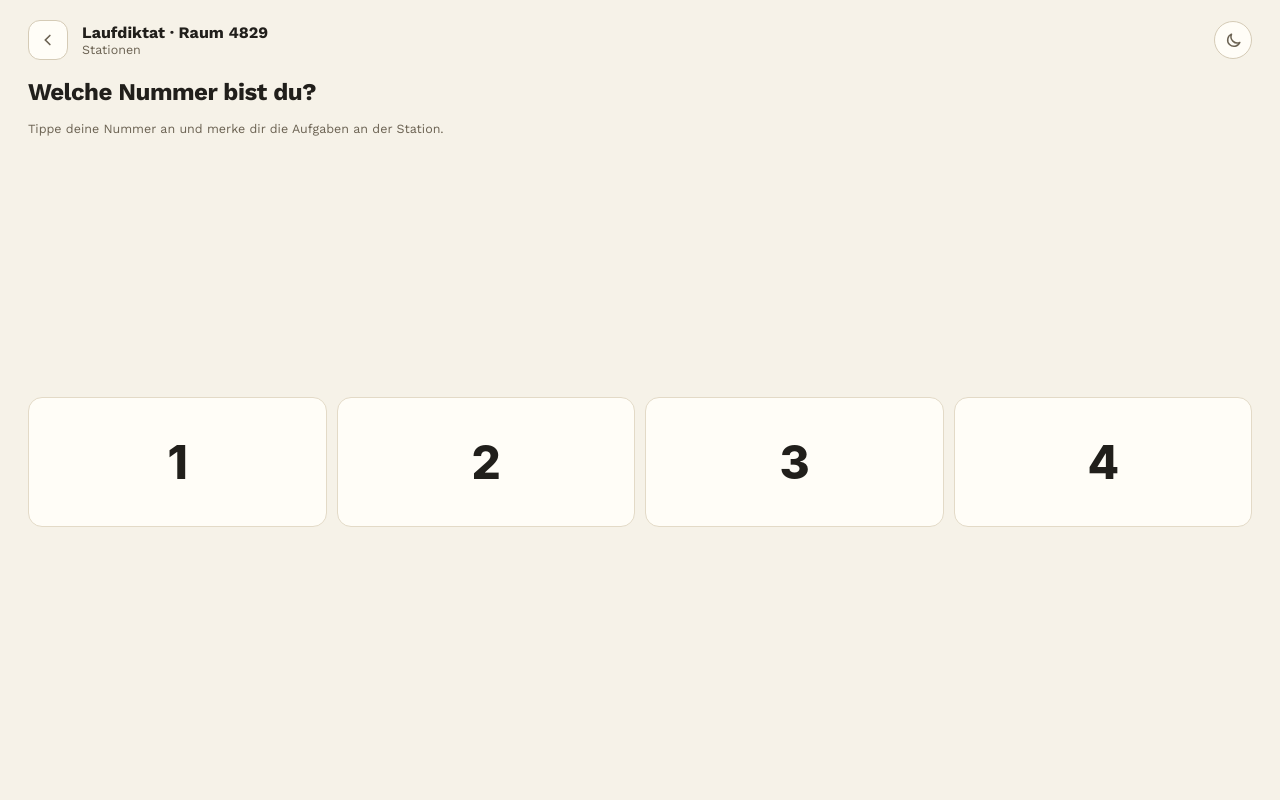
LiveStationGame › restores a station and reports its secure station identity
Later steps or results of the test are not shown.
Click the button "3".
click(794, 462)  # box x1=645 y1=397 x2=944 y2=527
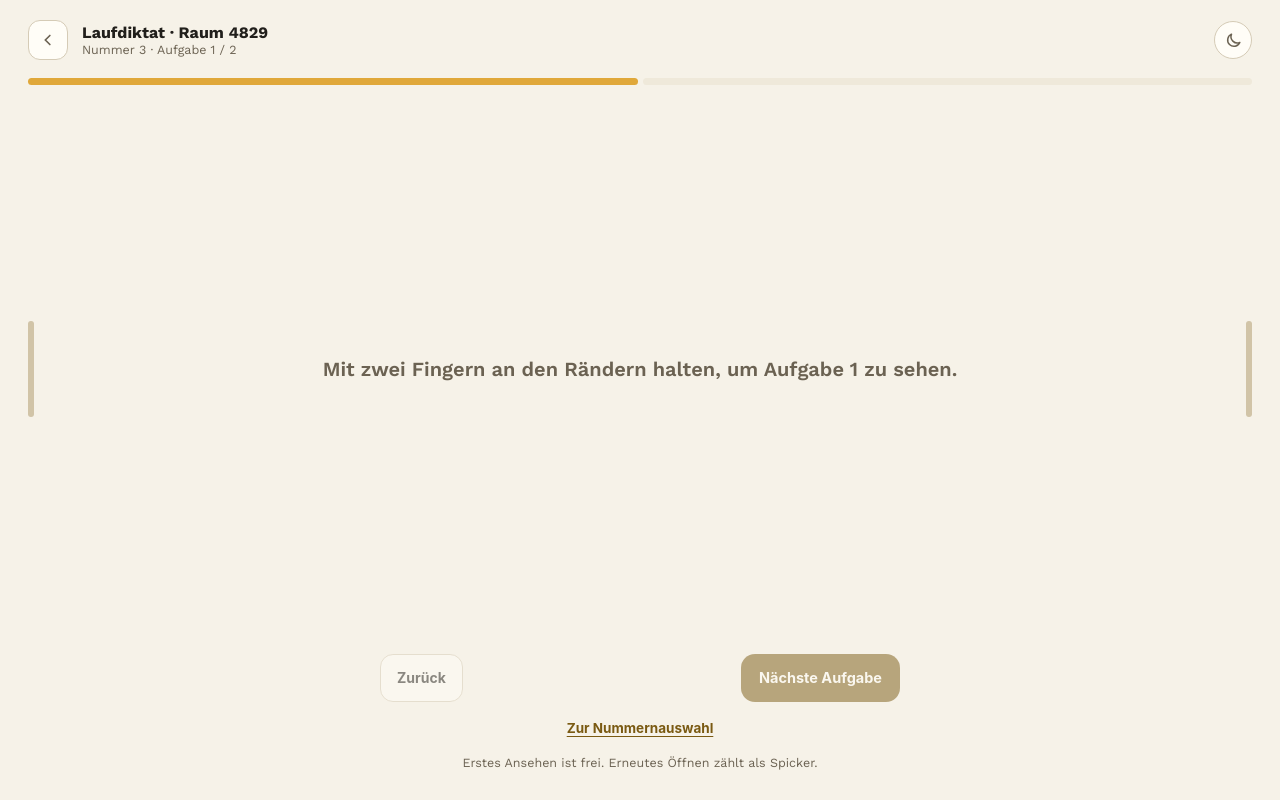
Press the mouse on the element that starts with "Laufdiktat · Raum" at coordinates (640, 400), box x1=0 y1=0 x2=1279 y2=799
Press the mouse on the element that starts with "Laufdiktat · Raum" at coordinates (640, 400), box x1=0 y1=0 x2=1279 y2=799
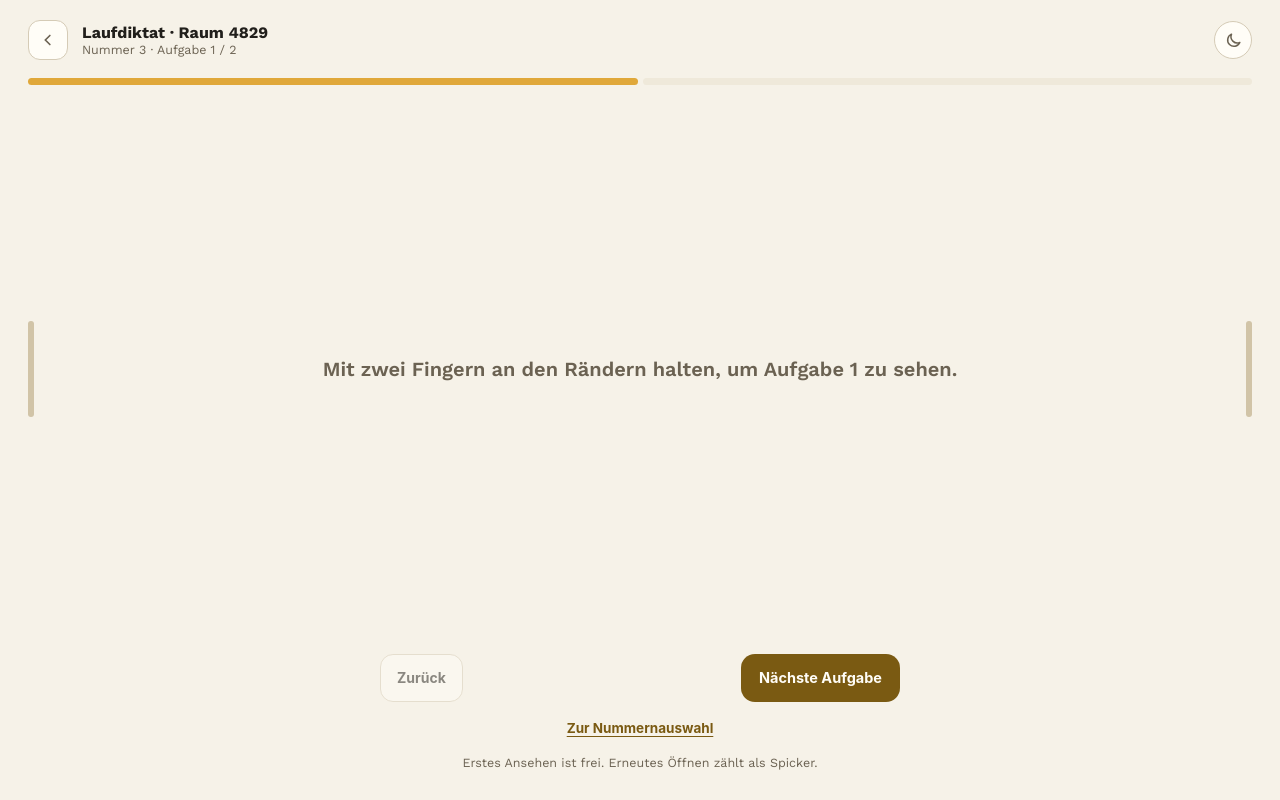
Click the button "Nächste Aufgabe".
click(820, 678)  # box x1=741 y1=654 x2=900 y2=702
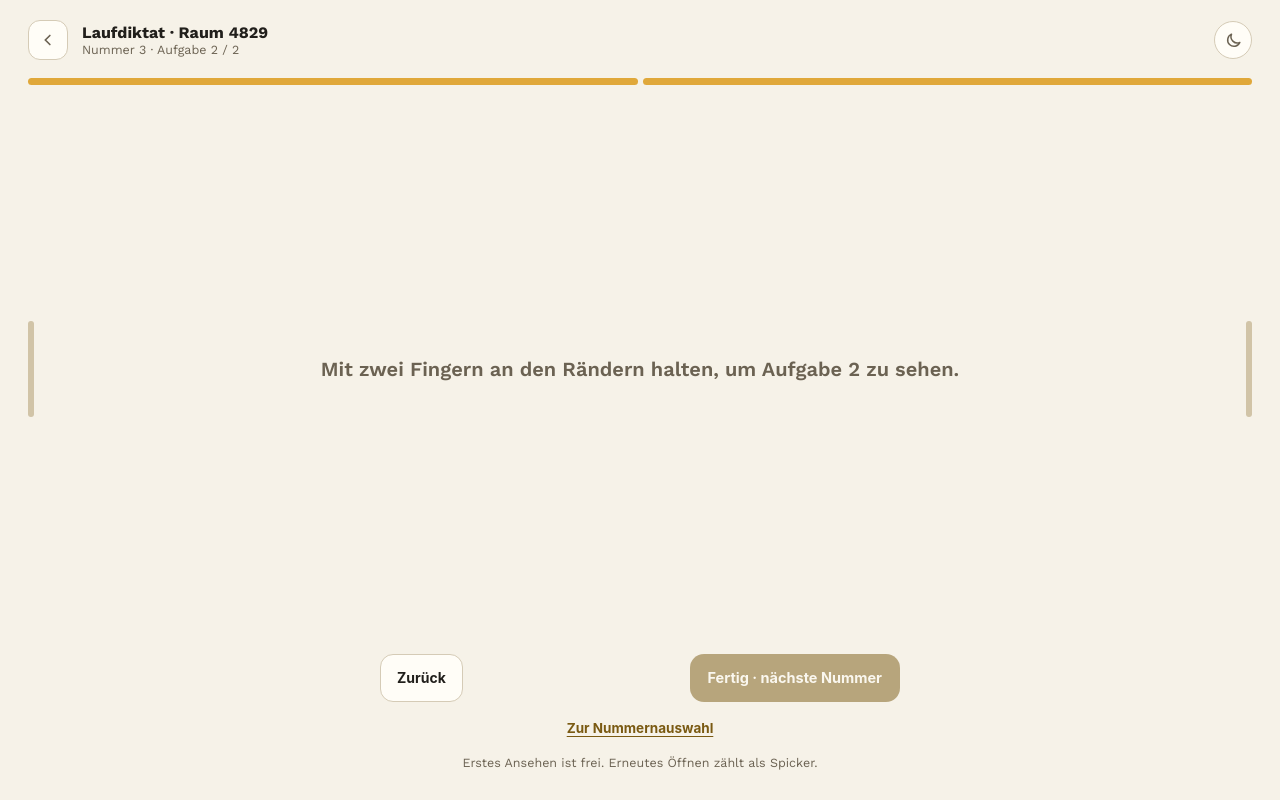
Expected: the text "Nummer 3 · Aufgabe 2 / 2" is shown, x1=82 y1=42 x2=239 y2=57
